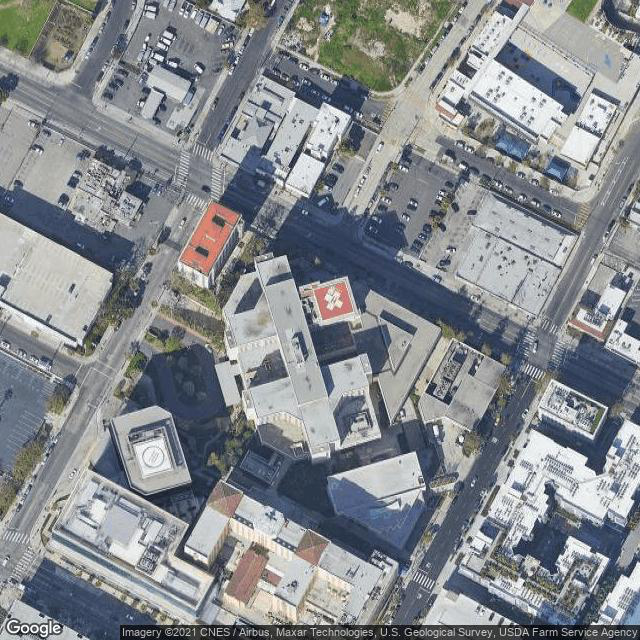Helipad: (314, 281, 355, 318), (137, 439, 170, 473)
